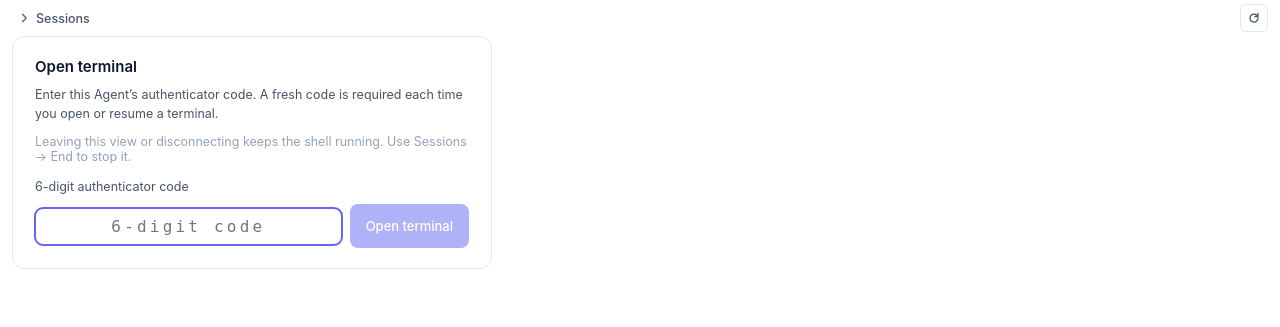
Terminal session recovery › aborts a cancelled refresh and ignores its late response
Step 1. Click the button "Sessions" → [63, 18], box [12,6,1236,30]
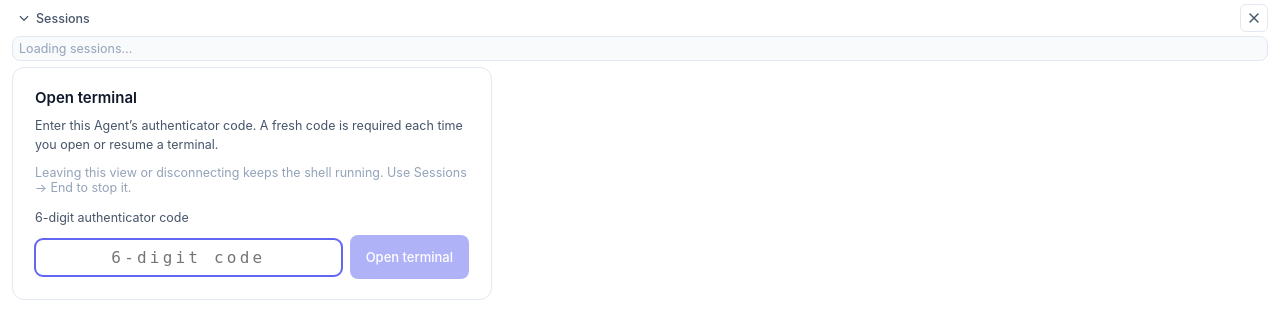
Step 2. Click the button named "Cancel refresh" → [1254, 18], box [1240,4,1268,32]
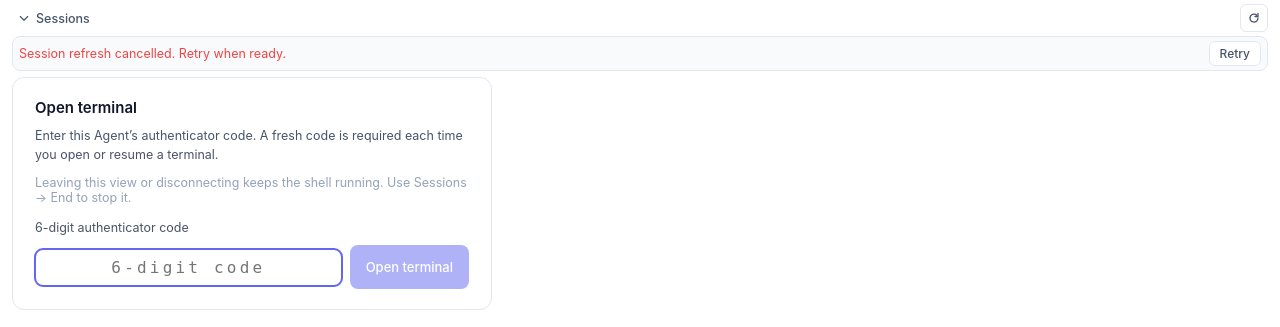
Expected: the text "refresh cancelled" is shown, [19,46,286,61]
Expected: the button "Retry" is shown
Step 3. Click the button "Retry" → [1235, 54], box [1208,41,1261,66]
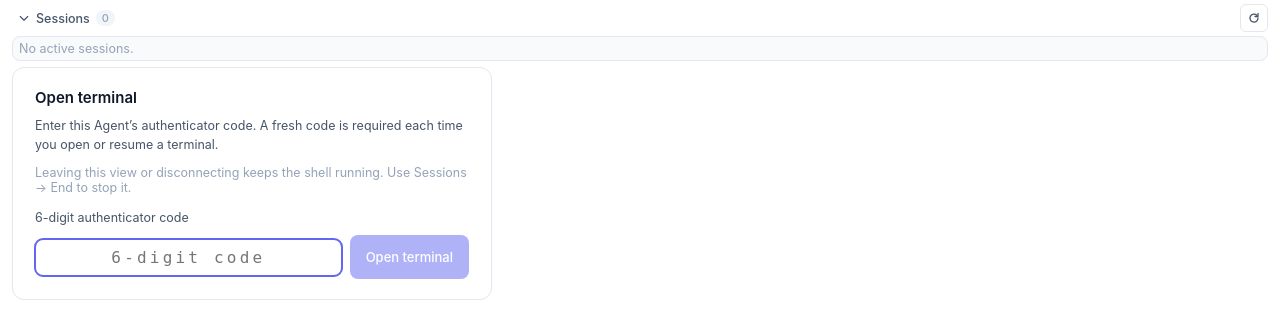
Expected: the text "No active sessions" is shown, [19,41,134,56]
